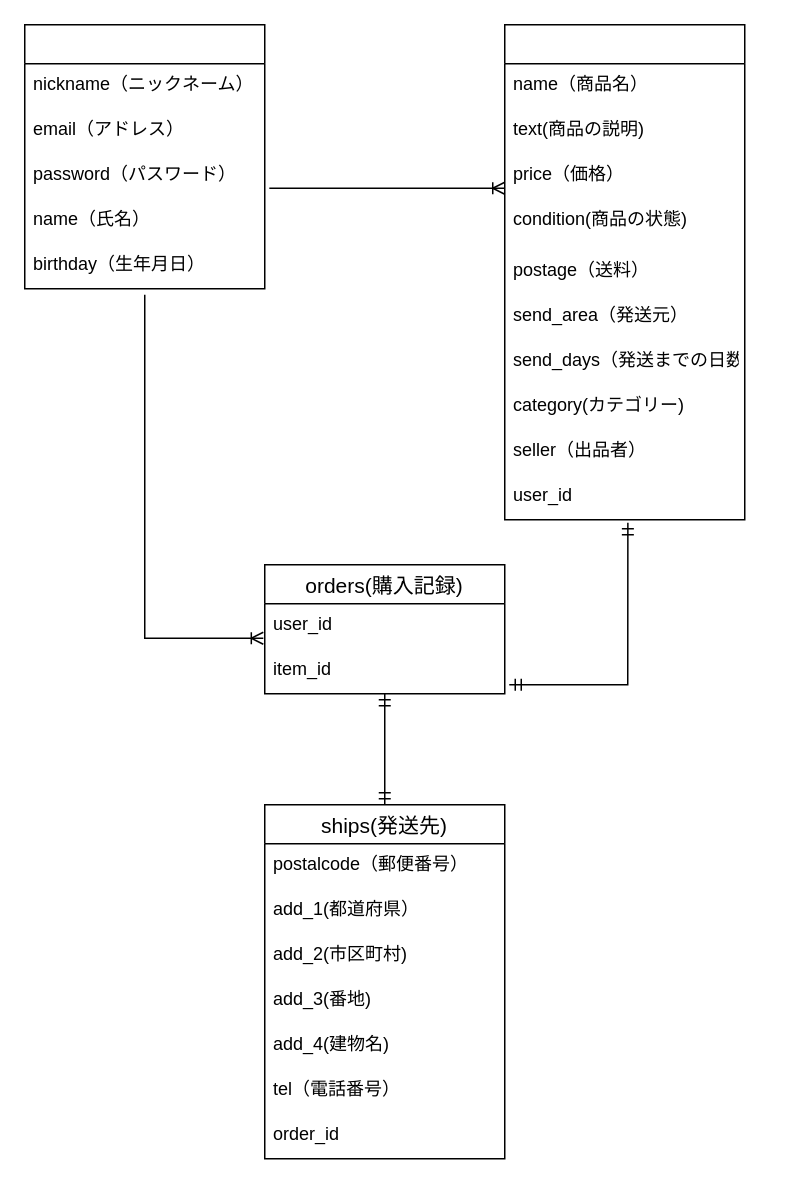
The diagram is 788 pixels wide and 1184 high, and some of its shapes have lost their labels. The shapes that lost their labels are listed below. From the top down, each one's box as (x1, y1, x2, y2) in pixels, then its label:
(23, 23, 265, 289): users(ユーザー情報)
(503, 23, 745, 520): items(商品情報)
